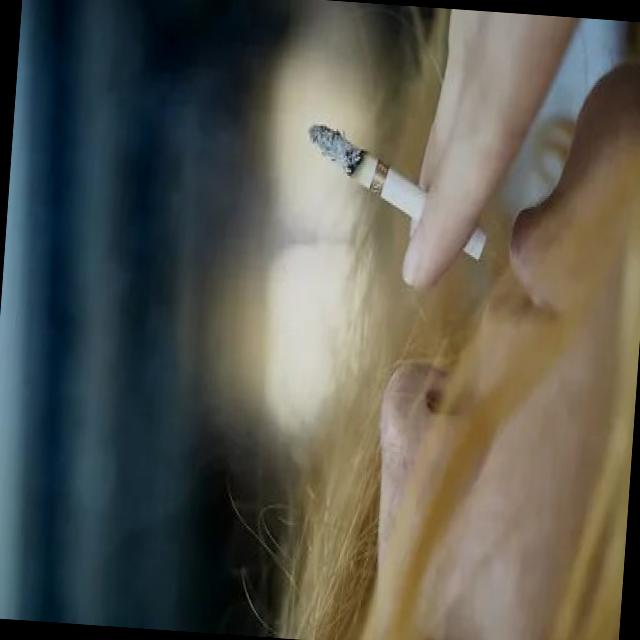smoke: (296, 110, 500, 268)
